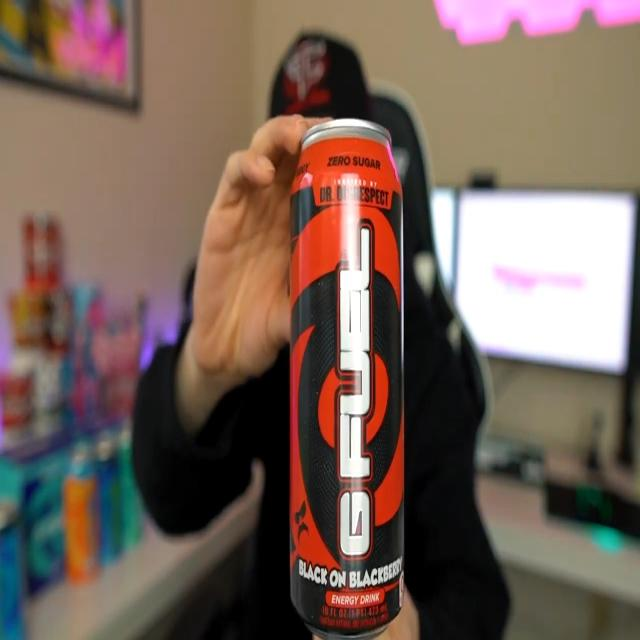can: (289, 119, 405, 640)
